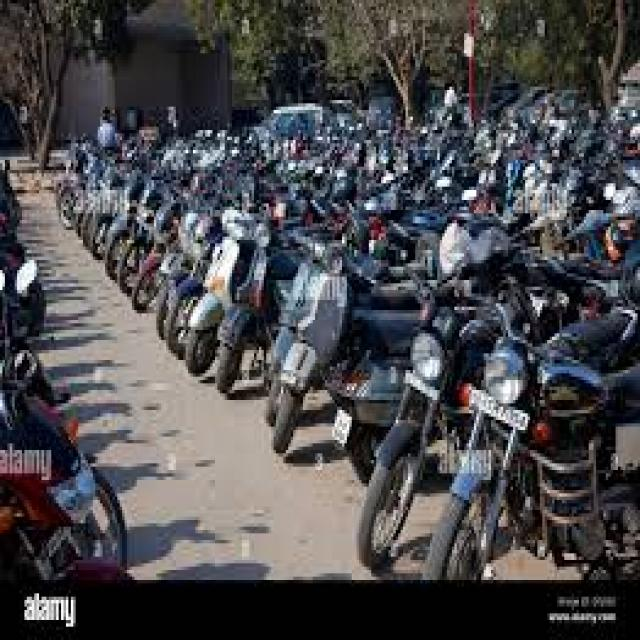No Parking: (59, 88, 613, 496)
